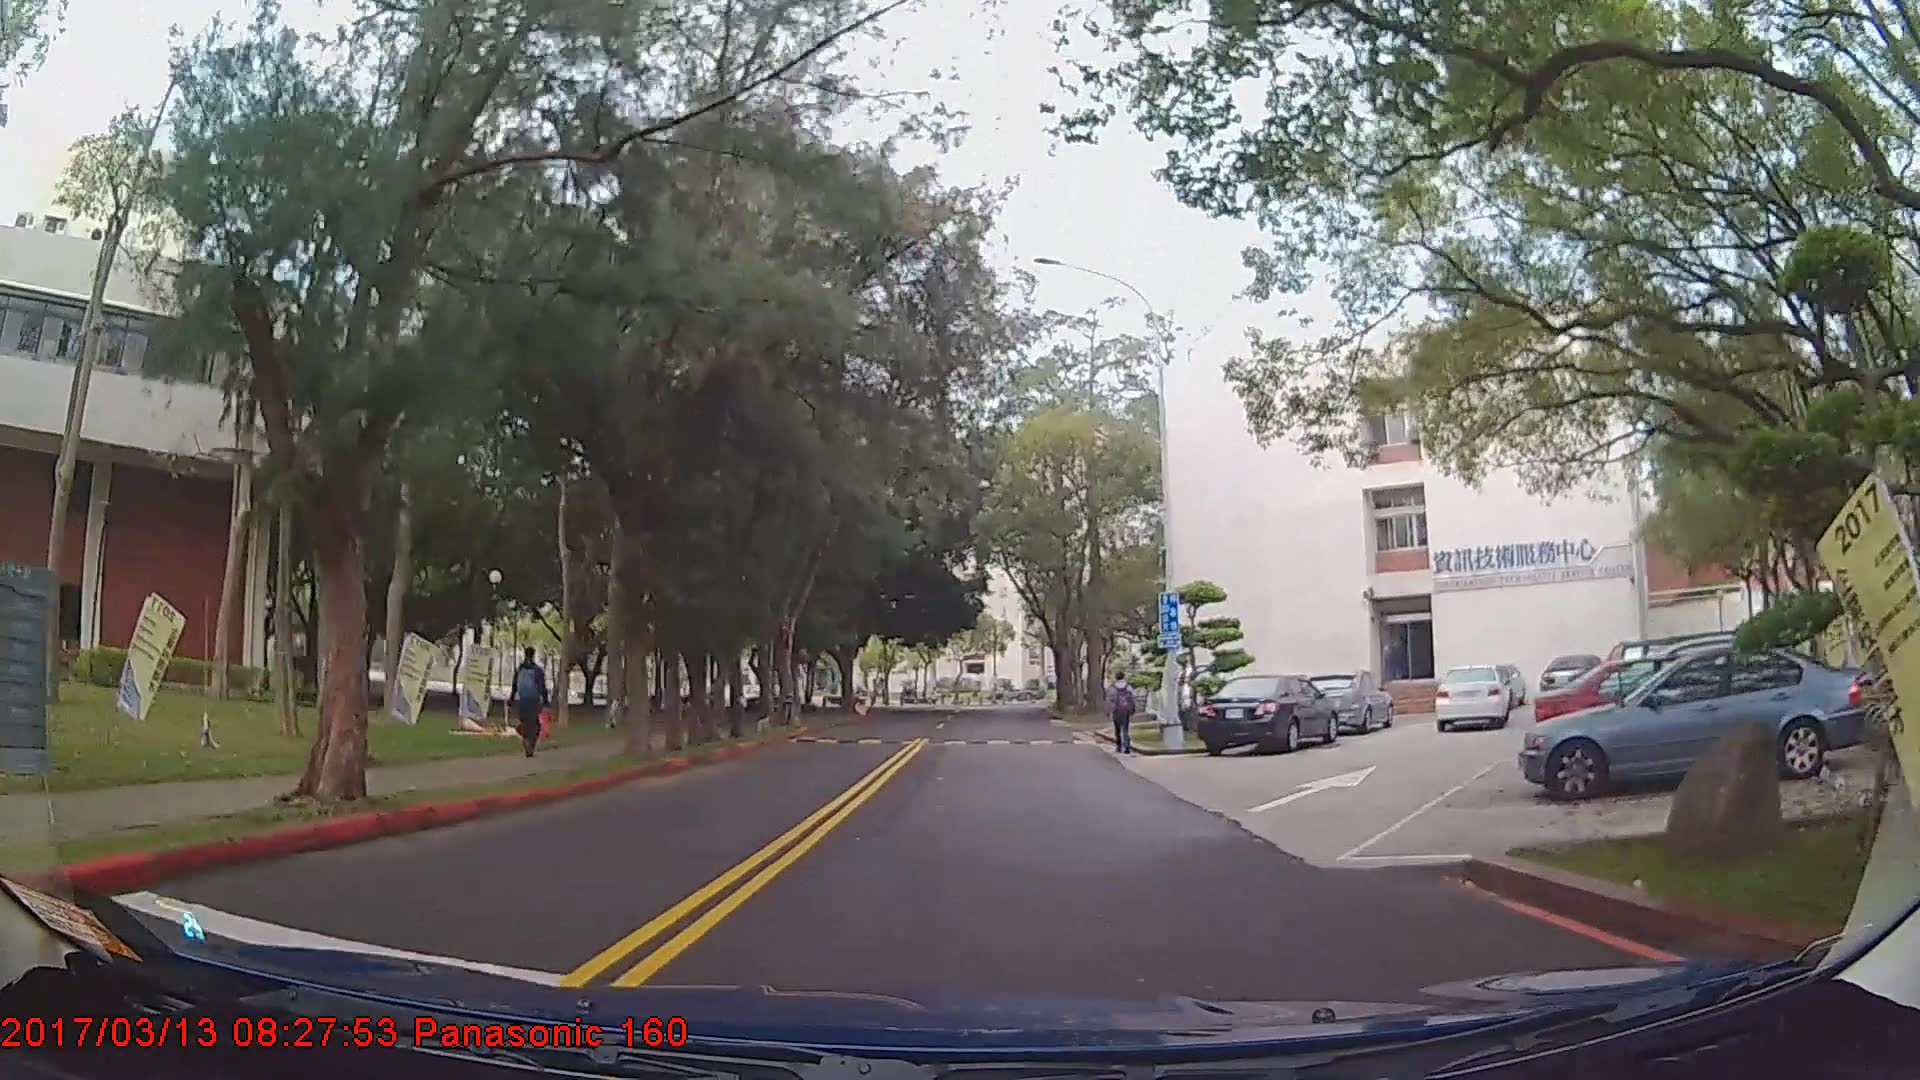pedestrian: (512, 646, 551, 760), (1107, 671, 1137, 756)
vehicle: (1520, 639, 1873, 800), (1530, 651, 1858, 763), (1195, 673, 1338, 757), (1302, 669, 1394, 733), (1435, 666, 1509, 731), (1538, 651, 1603, 703)
